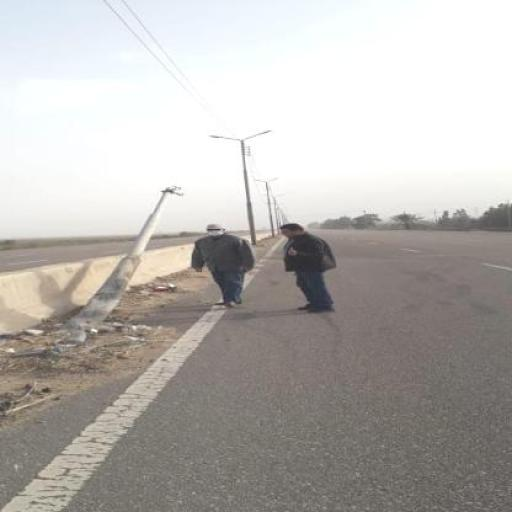street light: (208, 130, 272, 246), (255, 177, 280, 238), (261, 193, 285, 236)
